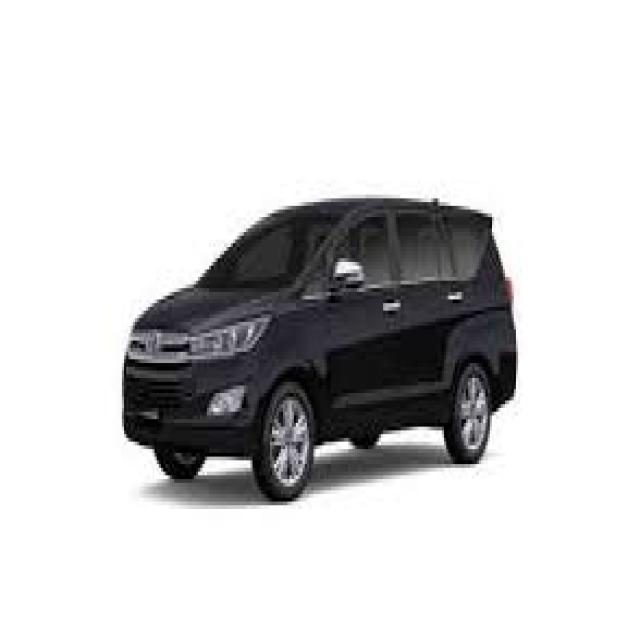light_vehicle: (121, 196, 518, 504)
